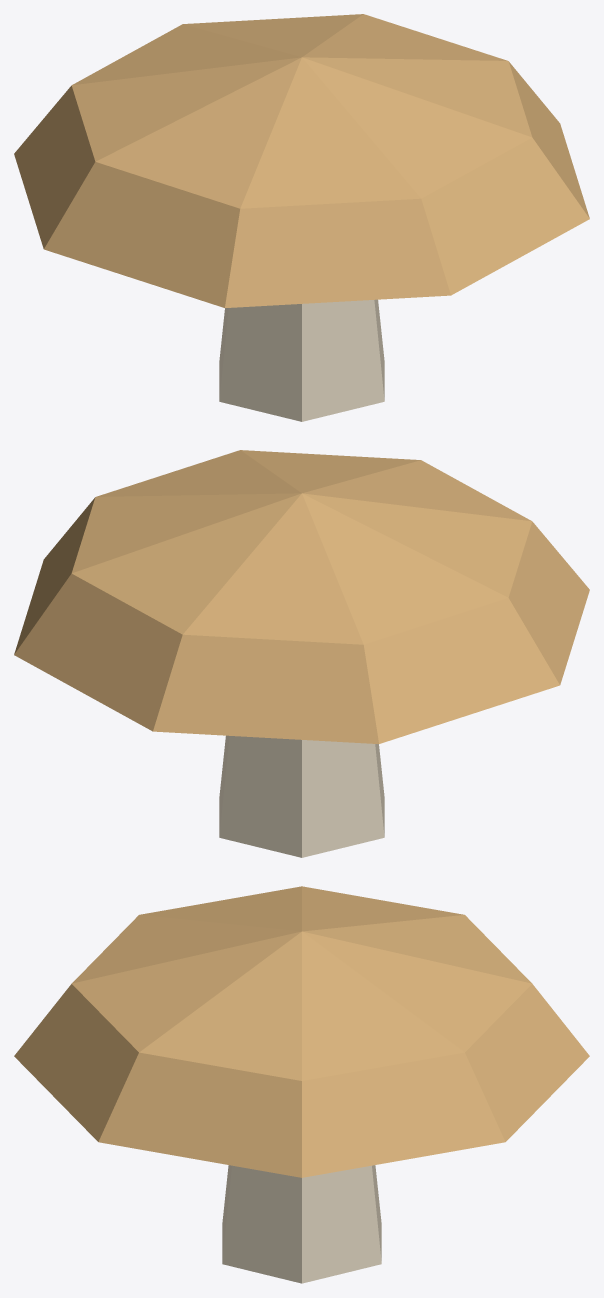
The model's file is mushroom_tan.glb.
3 renders of one model, top to bottom at view 1: azimuth 30°, elevation 25°; view 2: azimuth 150°, elevation 25°; view 3: azimuth 270°, elevation 25°, orthographic. The views are drawn at different scales.
Parts seen in each view (by area): view 1: mushroom_tan; view 2: mushroom_tan; view 3: mushroom_tan.
Boxes of the visible parts, x1,y1,x2,y2 form: mushroom_tan: (14, 14, 589, 421); mushroom_tan: (14, 450, 589, 857); mushroom_tan: (14, 886, 589, 1283).
Size of the model in its own units: 0.18 by 0.108 by 0.18.
Materials: 1 (1 with a texture image).
